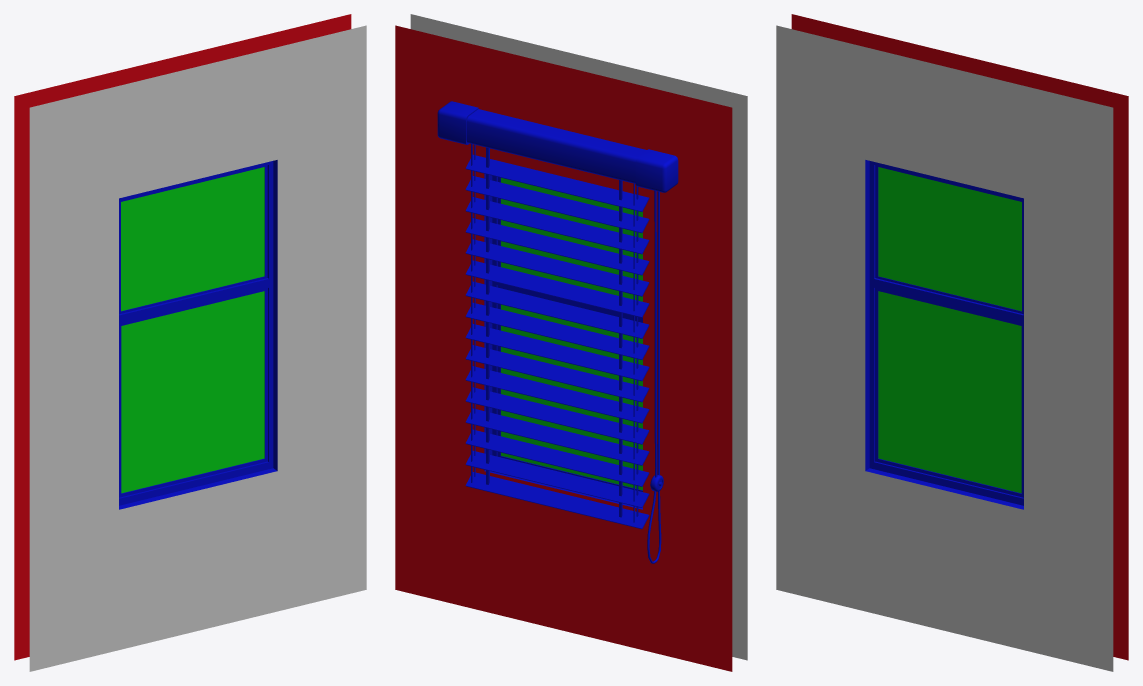
Rendered from Windows_2.fbx.
3 views of the same model, side by side, from view 1: azimuth 30°, elevation 25°; view 2: azimuth 150°, elevation 25°; view 3: azimuth 330°, elevation 25° (orthographic).
Visible parts, largest first — view 1: Windows_2.001, Windows_2.000; view 2: Windows_2.001, Cube.028, Windows_2.000; view 3: Windows_2.001, Windows_2.000.
Boxes of the visible parts, left/top/right/bottom form: Windows_2.001: left=14, top=14, right=366, bottom=671; Windows_2.000: left=121, top=167, right=264, bottom=493; Windows_2.001: left=395, top=14, right=747, bottom=671; Cube.028: left=437, top=101, right=678, bottom=563; Windows_2.000: left=501, top=178, right=642, bottom=490; Windows_2.001: left=776, top=14, right=1128, bottom=671; Windows_2.000: left=878, top=167, right=1021, bottom=493.
Size of the model in its own units: 250 by 400 by 39.05.
